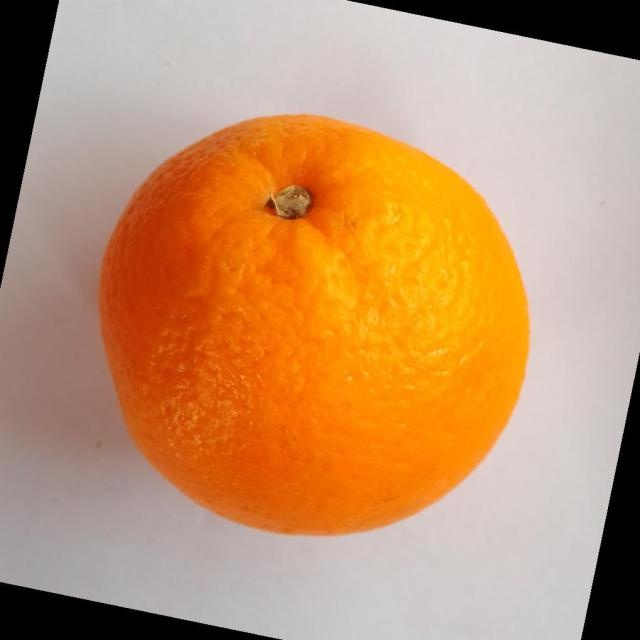agrume: (97, 112, 531, 537)
